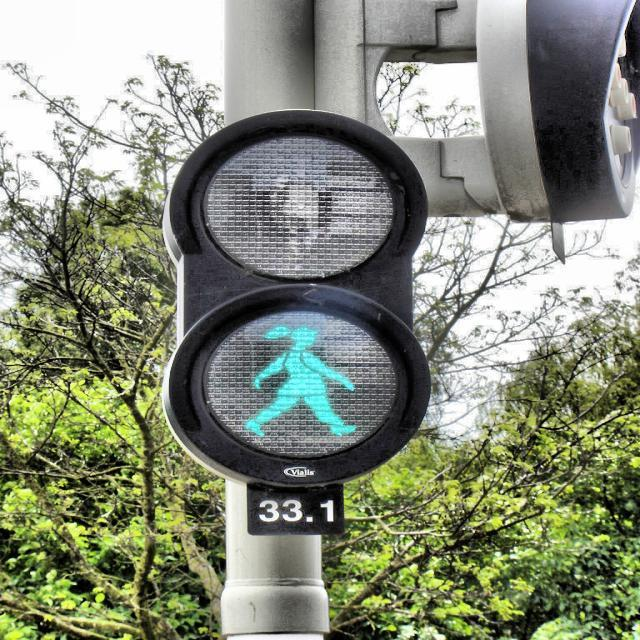green_light: (242, 322, 358, 440)
